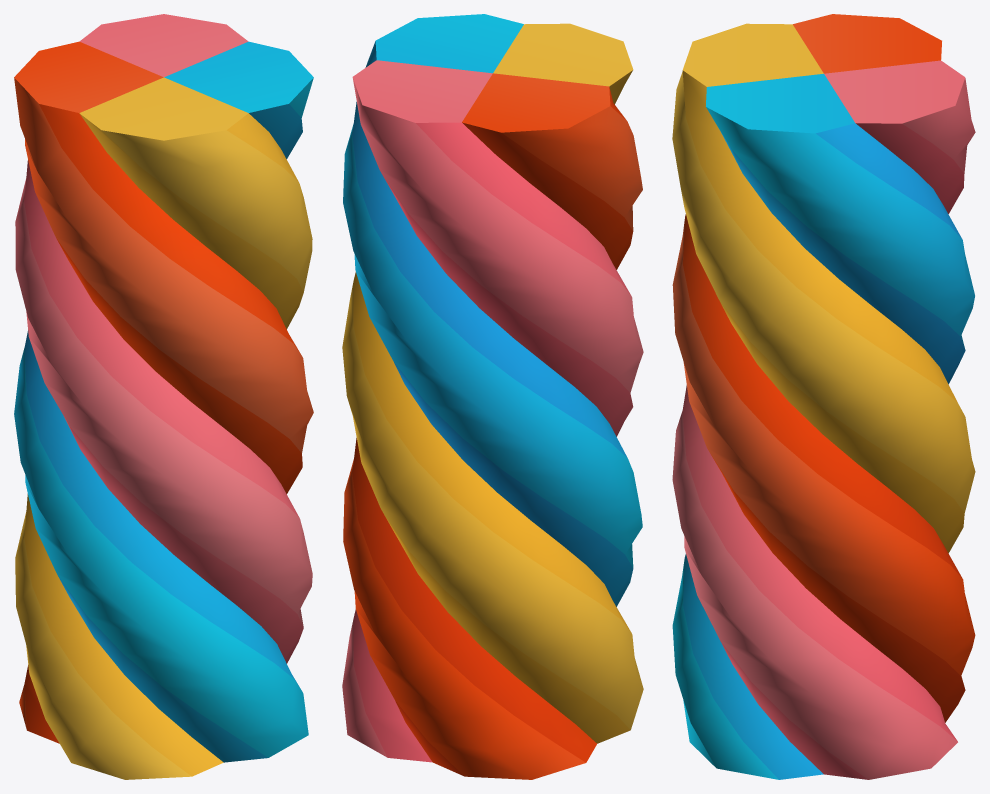
File: Marshmallow_1.fbx
3 renders of one model, left to right at view 1: azimuth 30°, elevation 25°; view 2: azimuth 150°, elevation 25°; view 3: azimuth 270°, elevation 25°, orthographic.
Visible parts, largest first — view 1: Marshmallow_1; view 2: Marshmallow_1; view 3: Marshmallow_1.
Boxes of the visible parts, <box> form: Marshmallow_1: <box>14,14,313,779</box>; Marshmallow_1: <box>342,14,643,779</box>; Marshmallow_1: <box>672,14,975,779</box>.
Bounding box in the file's own units: 71.56 × 169 × 71.56.
